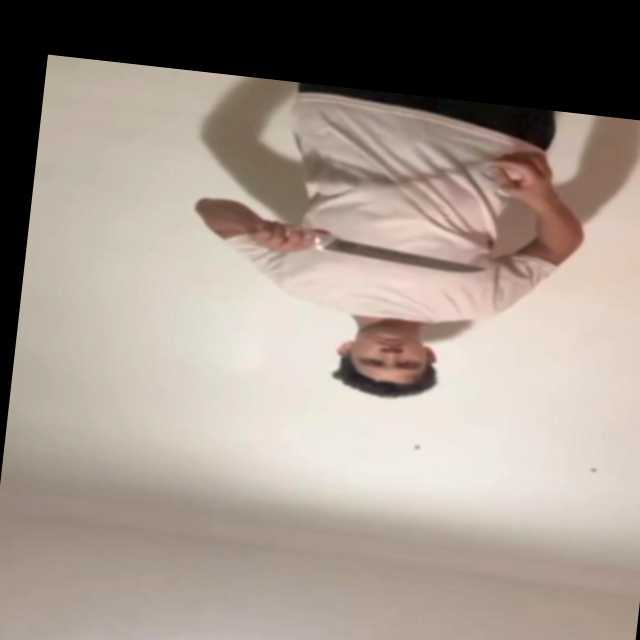Sharp-Object: (319, 236, 487, 276)
